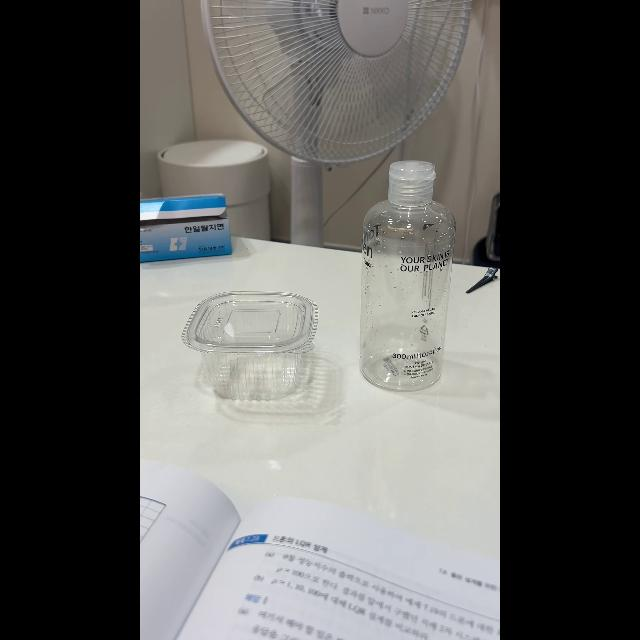clean: (359, 162, 456, 384), (182, 290, 320, 400)
